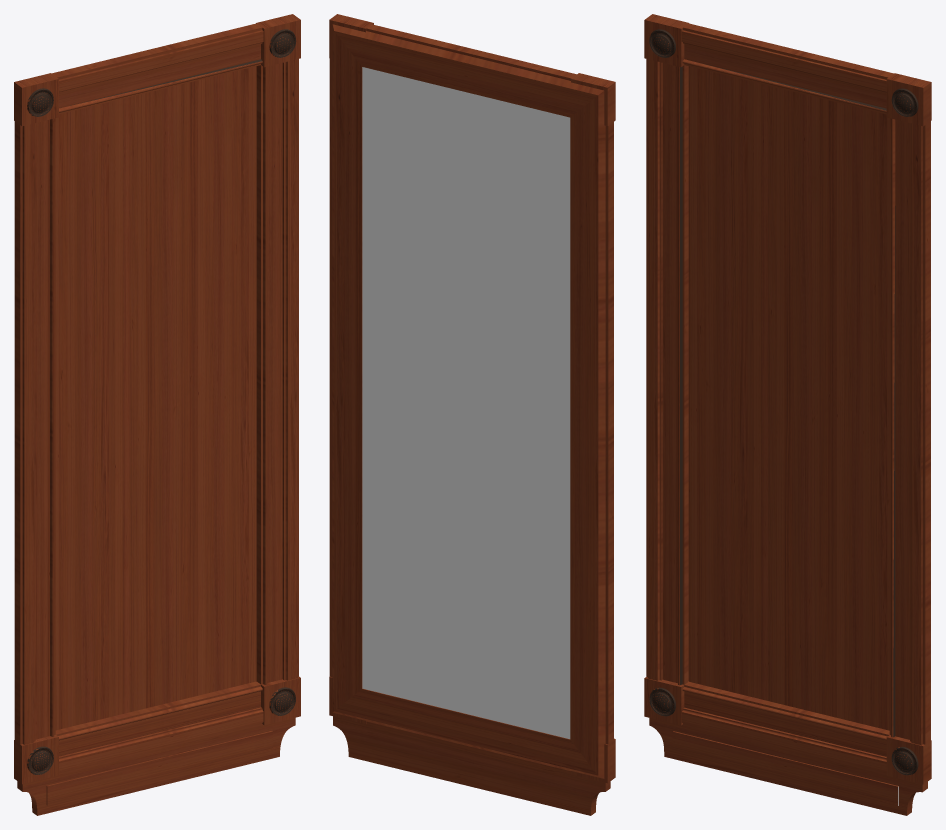
Rendered from mirror.fbx.
The picture shows the model from 3 angles, left to right: view 1: azimuth 30°, elevation 25°; view 2: azimuth 150°, elevation 25°; view 3: azimuth 330°, elevation 25°; orthographic projection.
Parts seen in each view (by area): view 1: Mirror_01; view 2: Mirror_01; view 3: Mirror_01.
Part boxes in pixels (left/top/right/bottom): Mirror_01: left=14, top=14, right=300, bottom=815; Mirror_01: left=329, top=14, right=615, bottom=815; Mirror_01: left=644, top=14, right=931, bottom=815.
Bounding box in the file's own units: 53.79 × 135 × 4.15.
3 materials, 1 textured.
